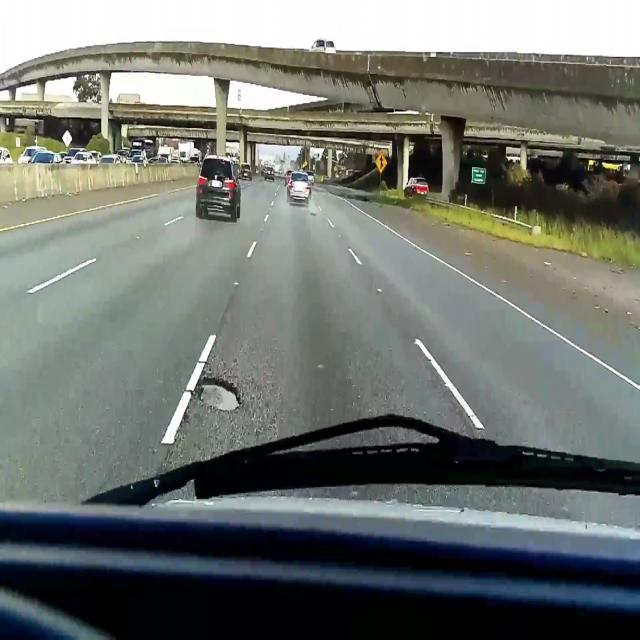Pothole: (192, 374, 246, 418), (310, 210, 318, 221)
